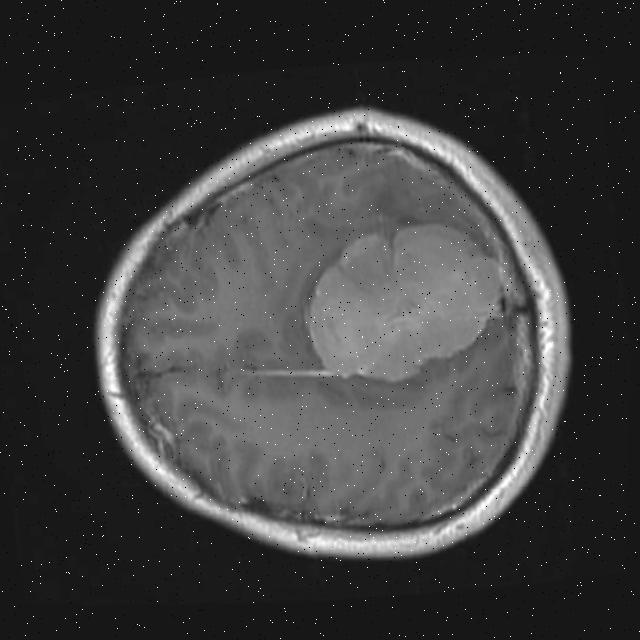Meningioma: (293, 203, 518, 402)
